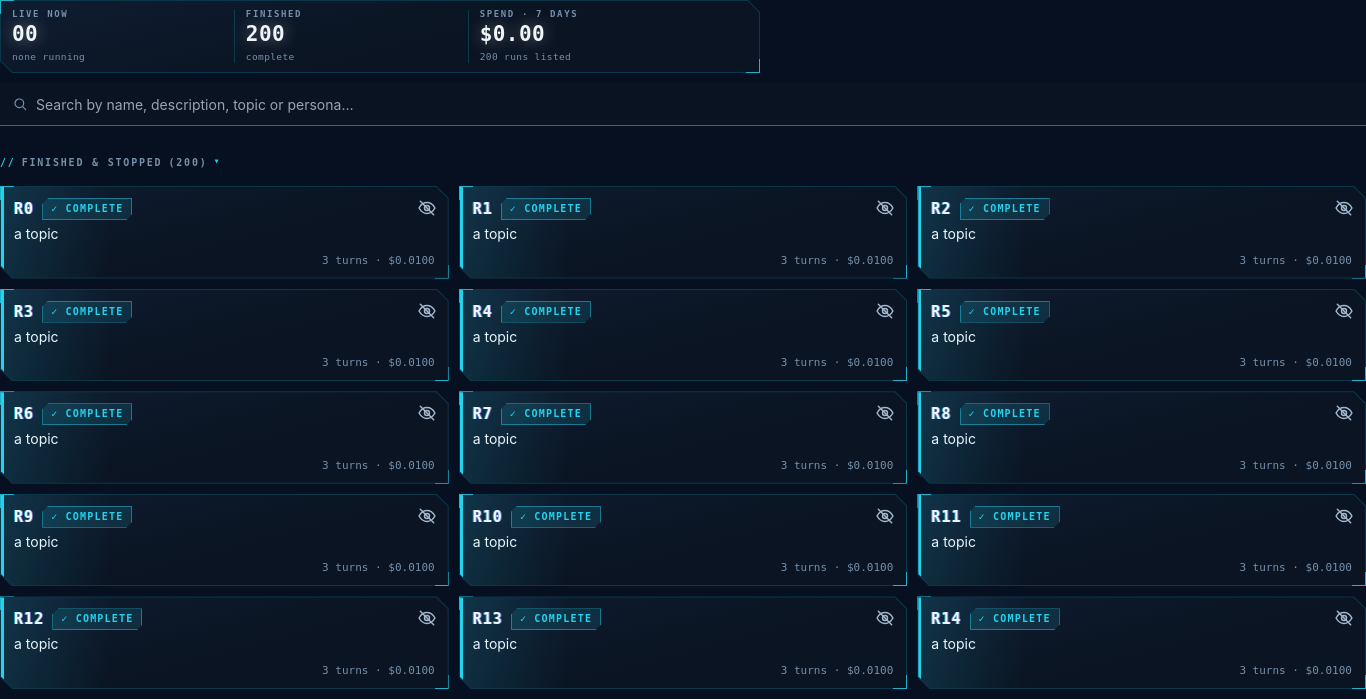
Test: run search › still asks the server once the list is at its cap, where older runs are not loaded
Expected: the text "r0" is shown, [14,200,34,218]
Type "ancient" into the search field.
click(695, 104); type("ancient")  # box [36,83,1354,125]
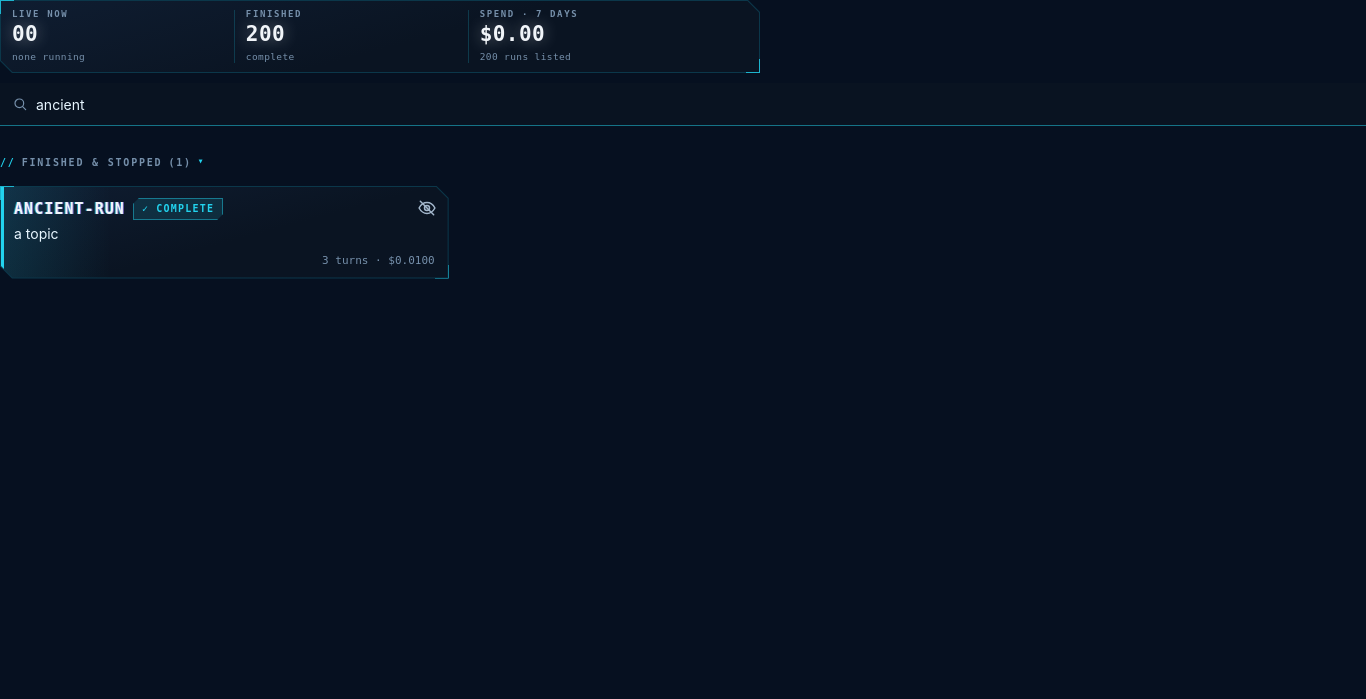
Expected: the text "ancient-run" is shown, [14,200,125,218]
